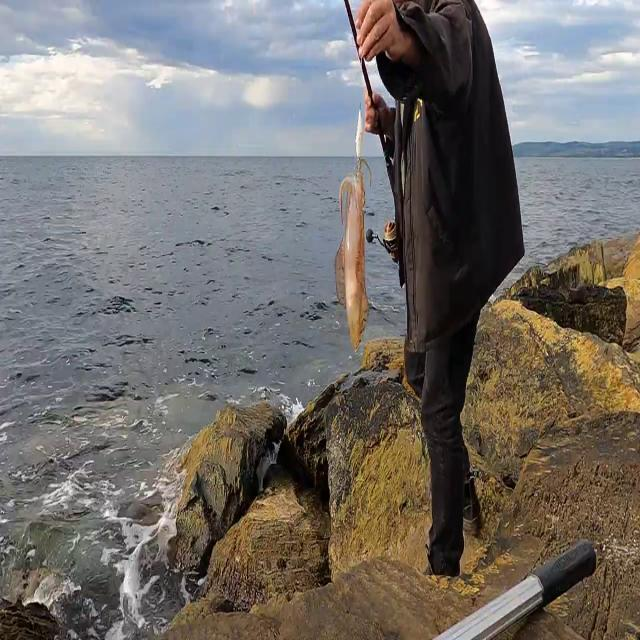SQUID: (322, 133, 390, 377)
